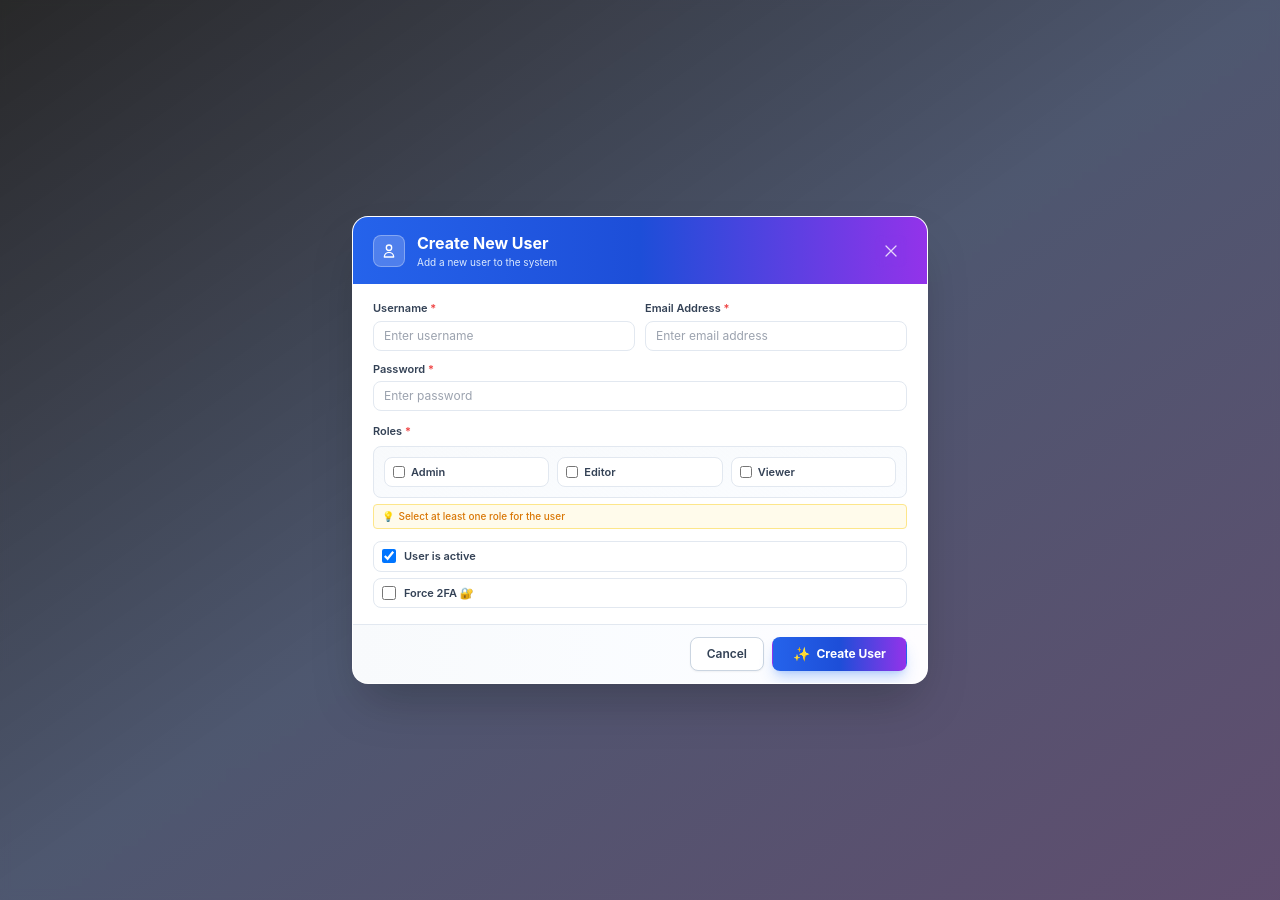
Scenario: UserModal Component › Create Mode › should validate required fields before submission
The image size is (1280, 900).
# Try to submit without filling fields
Click the text "Create User" at point(851, 654), box [816, 646, 886, 662]
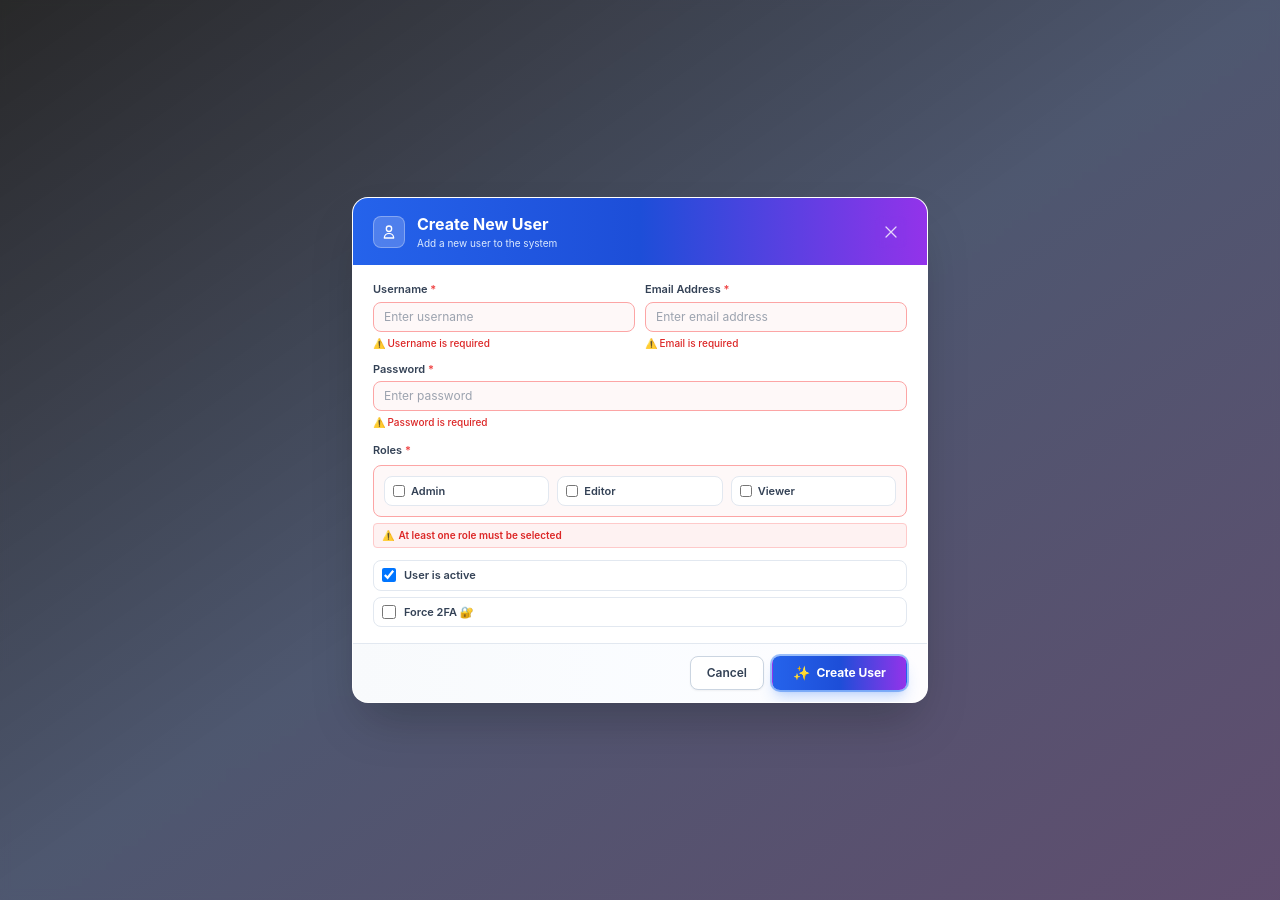
Now the text "⚠️ Username is required" is shown, box [373, 336, 490, 348]
Now the text "⚠️ Email is required" is shown, box [645, 336, 738, 348]
Now the text "⚠️ Password is required" is shown, box [373, 416, 488, 428]
